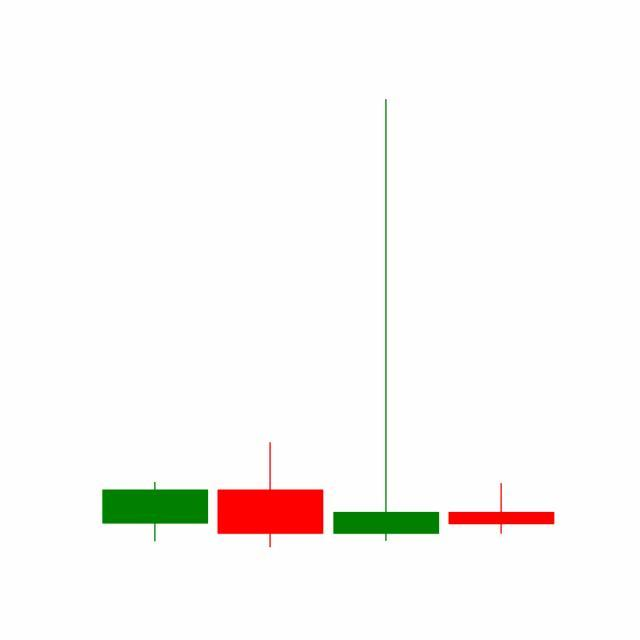Gravestone Doji: (444, 483, 560, 536)
